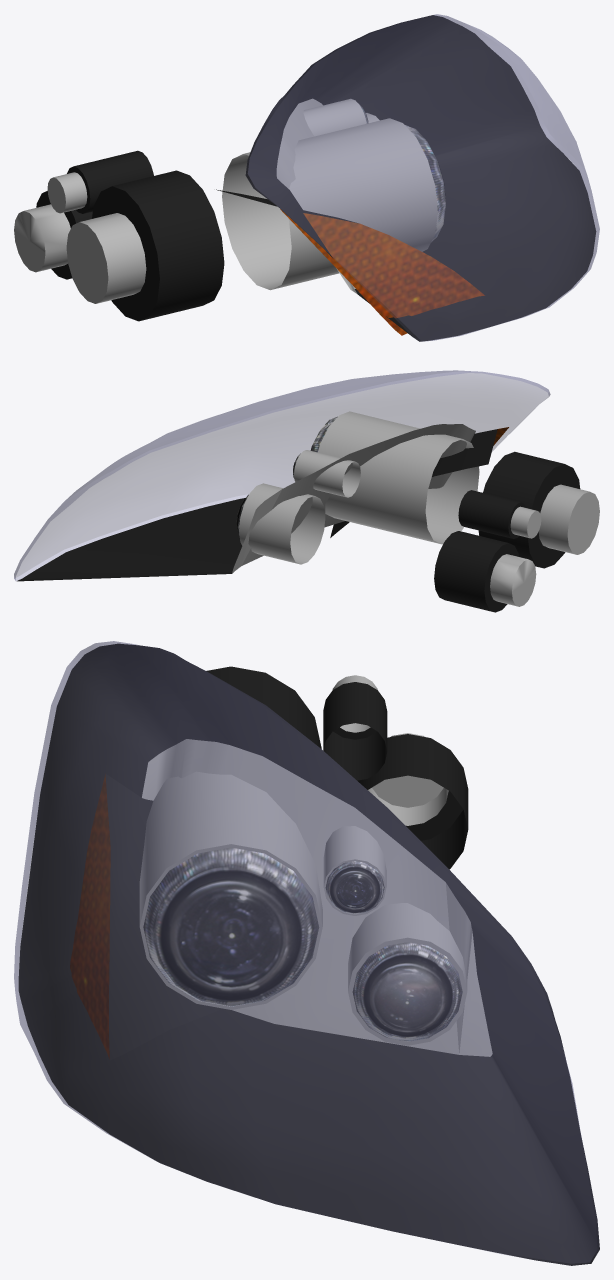
The picture shows the model from 3 angles, top to bottom: view 1: azimuth 30°, elevation 25°; view 2: azimuth 150°, elevation 25°; view 3: azimuth 270°, elevation 25°; orthographic projection. The views are drawn at different scales.
Visible parts, largest first — view 1: Z186_061B_R_1_DTaSI_Z186_061B_R, Z186_061B_R_Z186_061B_R_2_D, Z186_061B_R_Z186_061B_R_4_DaS, Z186_061B_R_Z186_061B_R_3_N, Z186_061B_R_Z186_061B_R_5_N; view 2: Z186_061B_R_1_DTaSI_Z186_061B_R, Z186_061B_R_Z186_061B_R_4_DaS, Z186_061B_R_Z186_061B_R_2_D; view 3: Z186_061B_R_1_DTaSI_Z186_061B_R, Z186_061B_R_Z186_061B_R_2_D, Z186_061B_R_Z186_061B_R_4_DaS, Z186_061B_R_Z186_061B_R_5_N, Z186_061B_R_Z186_061B_R_7_N, Z186_061B_R_Z186_061B_R_3_N, Z186_061B_R_Z186_061B_R_6_N.
Boxes of the visible parts, x1,y1,x2,y2 form: Z186_061B_R_1_DTaSI_Z186_061B_R: [246, 14, 599, 341]; Z186_061B_R_Z186_061B_R_2_D: [36, 15, 596, 341]; Z186_061B_R_Z186_061B_R_4_DaS: [14, 98, 437, 303]; Z186_061B_R_Z186_061B_R_3_N: [280, 209, 484, 335]; Z186_061B_R_Z186_061B_R_5_N: [405, 125, 445, 241]; Z186_061B_R_1_DTaSI_Z186_061B_R: [14, 370, 550, 580]; Z186_061B_R_Z186_061B_R_4_DaS: [232, 411, 599, 606]; Z186_061B_R_Z186_061B_R_2_D: [17, 429, 580, 612]; Z186_061B_R_1_DTaSI_Z186_061B_R: [14, 641, 599, 1265]; Z186_061B_R_Z186_061B_R_2_D: [18, 643, 599, 1265]; Z186_061B_R_Z186_061B_R_4_DaS: [139, 675, 492, 1056]; Z186_061B_R_Z186_061B_R_5_N: [143, 847, 318, 1006]; Z186_061B_R_Z186_061B_R_7_N: [352, 942, 462, 1041]; Z186_061B_R_Z186_061B_R_3_N: [70, 774, 110, 1058]; Z186_061B_R_Z186_061B_R_6_N: [325, 861, 384, 914].
Size of the model in its own units: 55.69 by 23.09 by 35.94.
